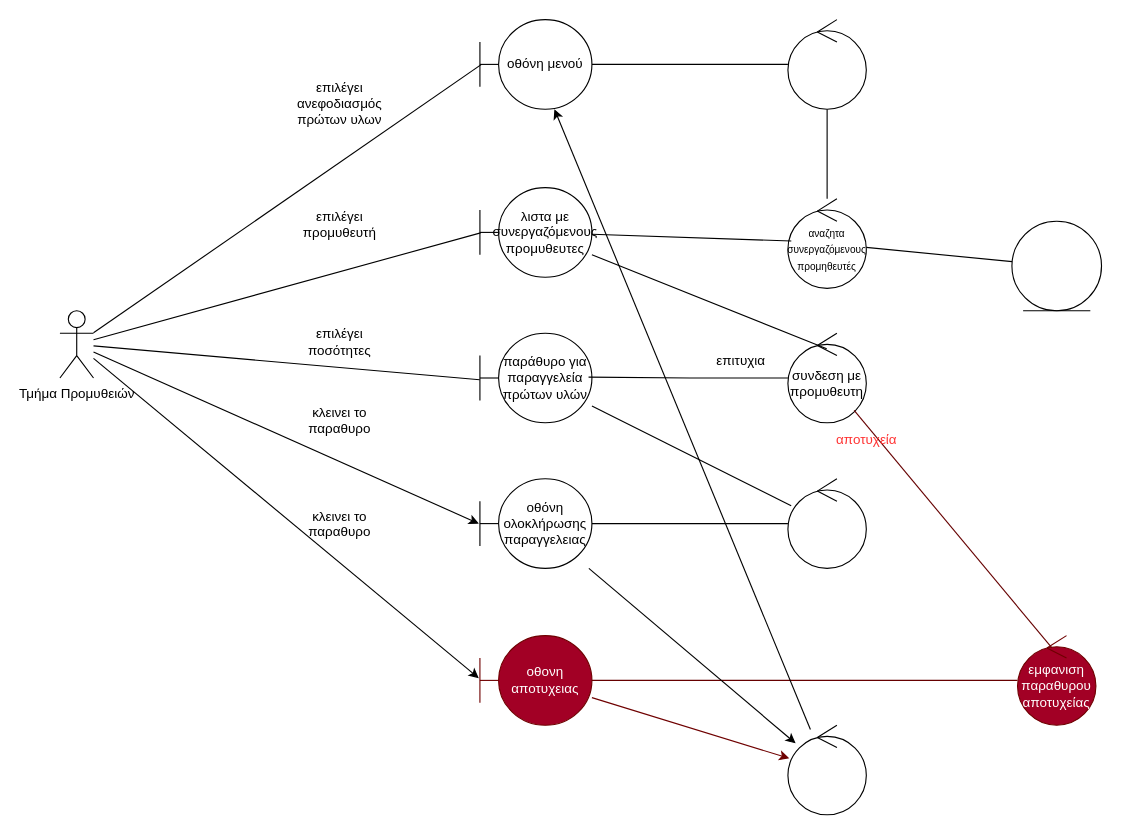
Some shapes in this 1121 by 834 pixel diagram are drawn without their labels. The centre of each missing label's shape, as x and y in pixels:
"διαβαζει επιλογη χρήστη" goes at (x=826, y=63).
"εμφανίζει οθόνη ολοκλήρωσης" goes at (x=826, y=523).
"κλείνει παράθυρο" goes at (x=826, y=769).
"προμηθευτές" goes at (x=1056, y=265).
